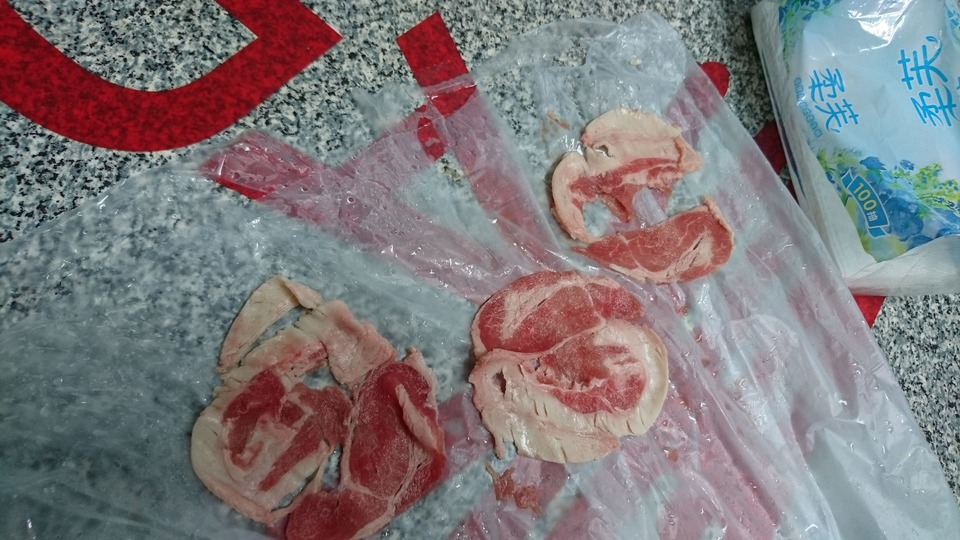restructured meat: (189, 275, 451, 540), (463, 263, 681, 467), (549, 113, 747, 287)
